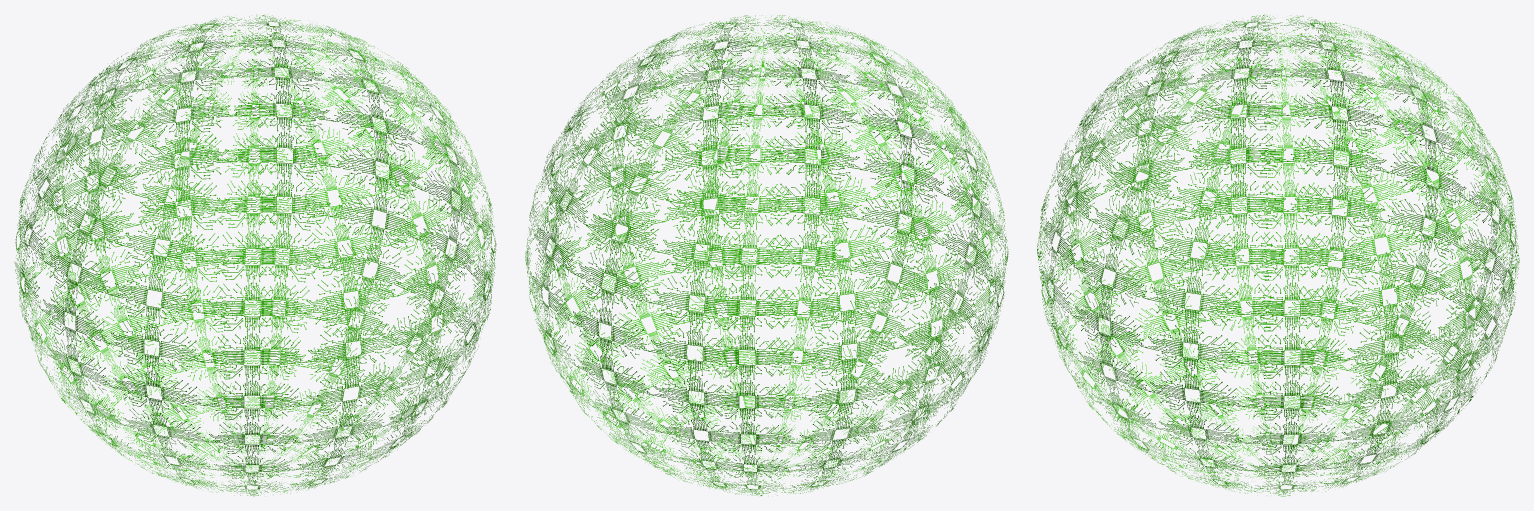
Rendered from testsfera2.gltf.
3 renders of one model, left to right at view 1: azimuth 30°, elevation 25°; view 2: azimuth 150°, elevation 25°; view 3: azimuth 270°, elevation 25°, orthographic.
Visible parts, largest first — view 1: Sfera; view 2: Sfera; view 3: Sfera.
Boxes of the visible parts, <box> form: Sfera: <box>14,15,496,496</box>; Sfera: <box>525,15,1008,495</box>; Sfera: <box>1037,14,1519,496</box>.
Size of the model in its own units: 14.9 by 14.92 by 14.9.
Materials: 1 (1 with a texture image).
